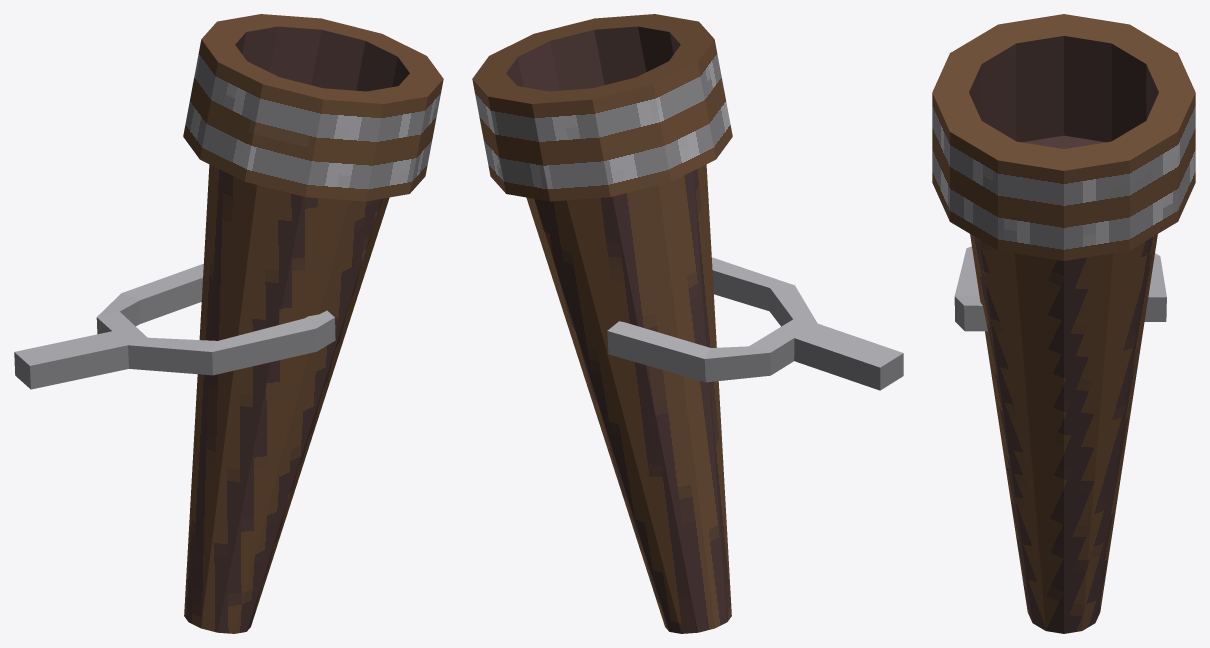
Rendered from Torch.fbx.
The picture shows the model from 3 angles, left to right: view 1: azimuth 30°, elevation 25°; view 2: azimuth 150°, elevation 25°; view 3: azimuth 270°, elevation 25°; orthographic projection. The views are drawn at different scales.
Visible parts, largest first — view 1: Cube; view 2: Cube; view 3: Cube.
Part boxes in pixels (x1,y1,x2,y2): Cube: (14, 14, 443, 633); Cube: (472, 14, 903, 633); Cube: (932, 14, 1195, 633).
Size of the model in its own units: 211 by 158 by 83.09.
